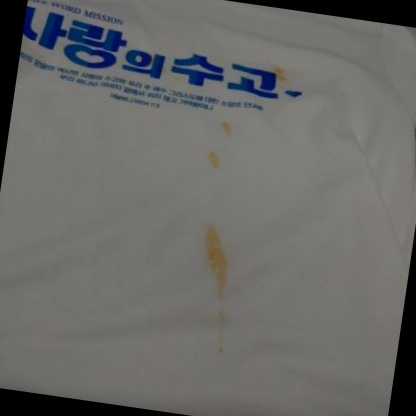kimchi: (196, 222, 242, 290), (214, 311, 230, 363), (221, 118, 237, 137), (273, 66, 290, 81), (203, 152, 217, 167), (220, 283, 231, 302), (173, 71, 182, 83), (164, 58, 173, 67), (162, 71, 167, 78)
